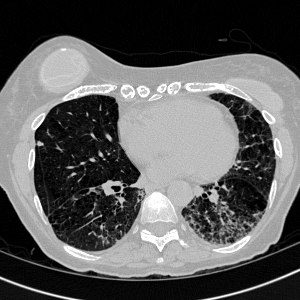nodule: (37, 141, 43, 147)
